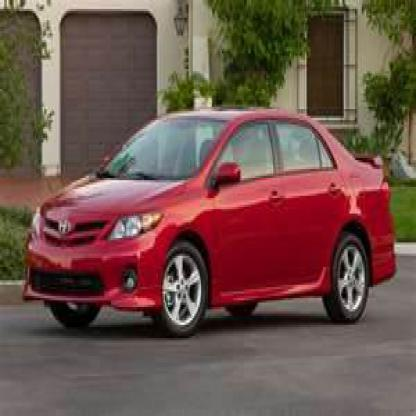Vehicle: (22, 100, 404, 349)
